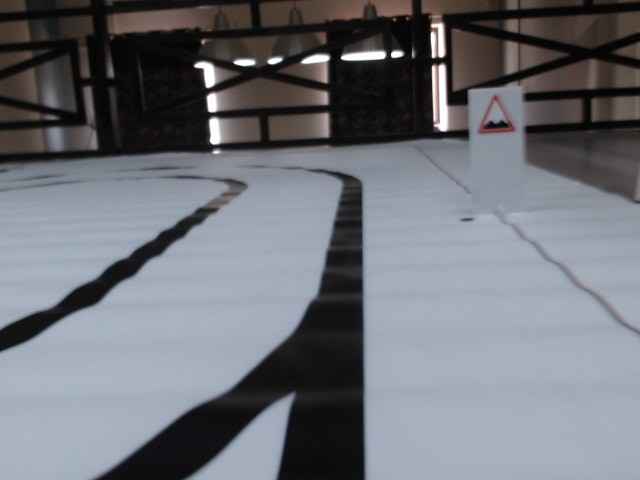Nerov: (478, 96, 515, 136)
